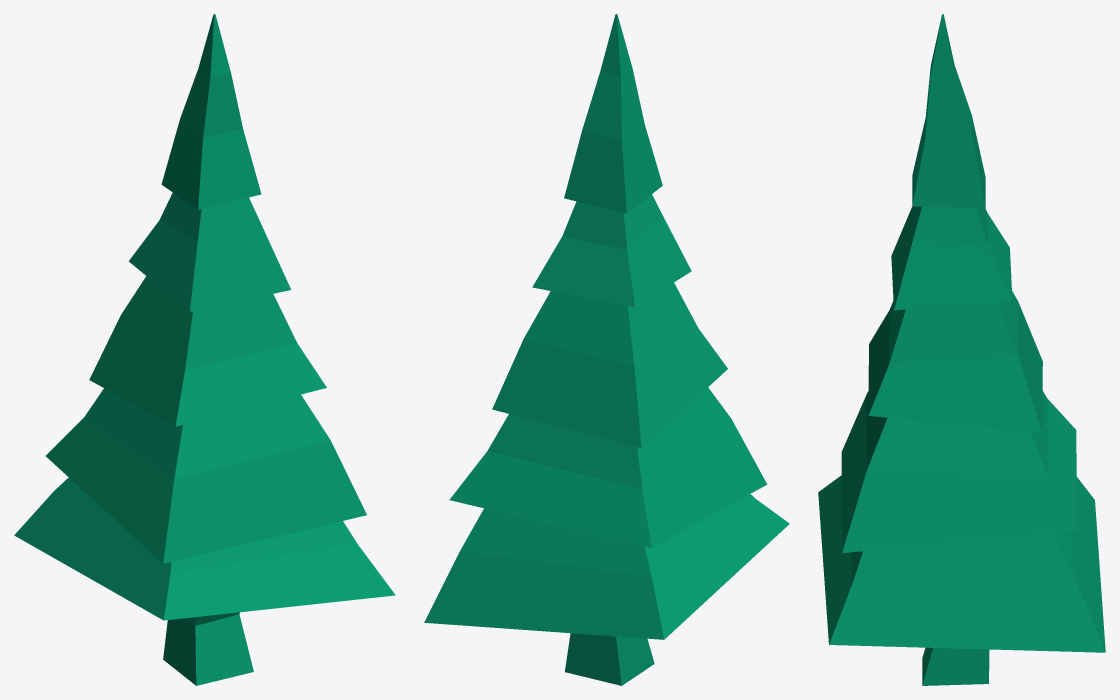
Rendered from tree.glb.
3 views of the same model, side by side, from view 1: azimuth 30°, elevation 25°; view 2: azimuth 150°, elevation 25°; view 3: azimuth 270°, elevation 25° (orthographic).
Parts seen in each view (by area): view 1: tree; view 2: tree; view 3: tree.
Boxes of the visible parts, box(x1,y1,x2,y2) form: tree: box(14, 14, 395, 685); tree: box(424, 14, 789, 685); tree: box(818, 14, 1105, 685).
Size of the model in its own units: 9.49 by 23.94 by 9.49.
